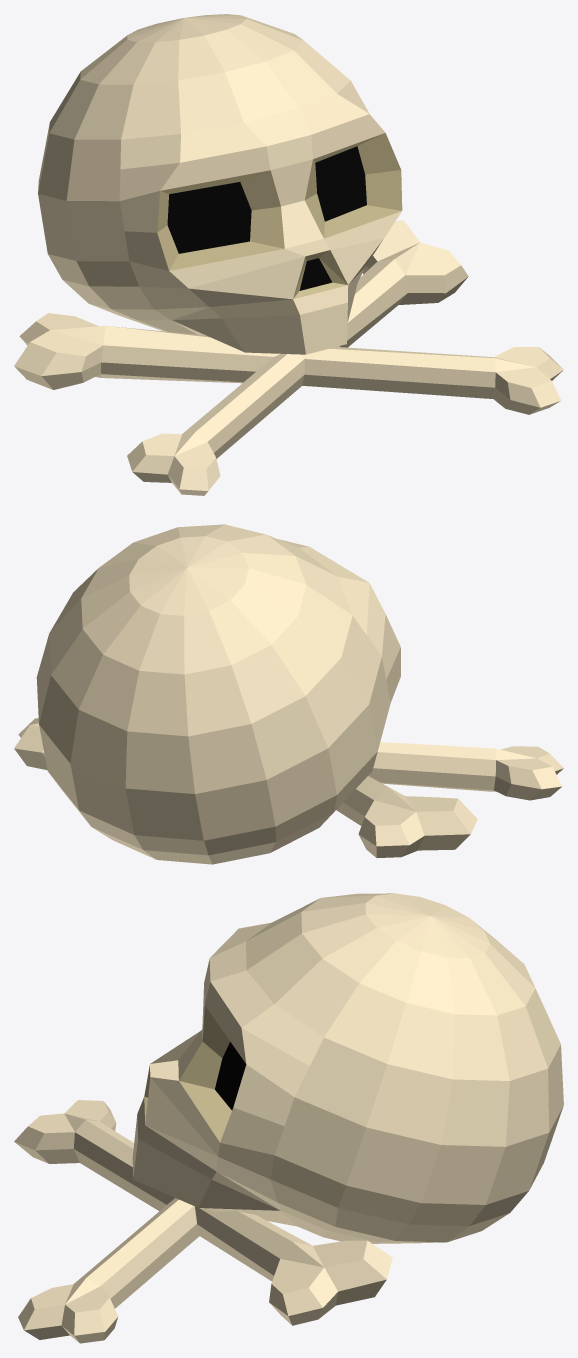
The model's file is Skull_Obstacle.fbx.
3 renders of one model, top to bottom at view 1: azimuth 30°, elevation 25°; view 2: azimuth 150°, elevation 25°; view 3: azimuth 270°, elevation 25°, orthographic. The views are drawn at different scales.
Visible parts, largest first — view 1: Skull; view 2: Skull; view 3: Skull.
Part boxes in pixels (left/top/right/bottom): Skull: left=14, top=14, right=563, bottom=495; Skull: left=14, top=524, right=563, bottom=864; Skull: left=14, top=893, right=563, bottom=1343.
Size of the model in its own units: 289 by 192 by 286.
